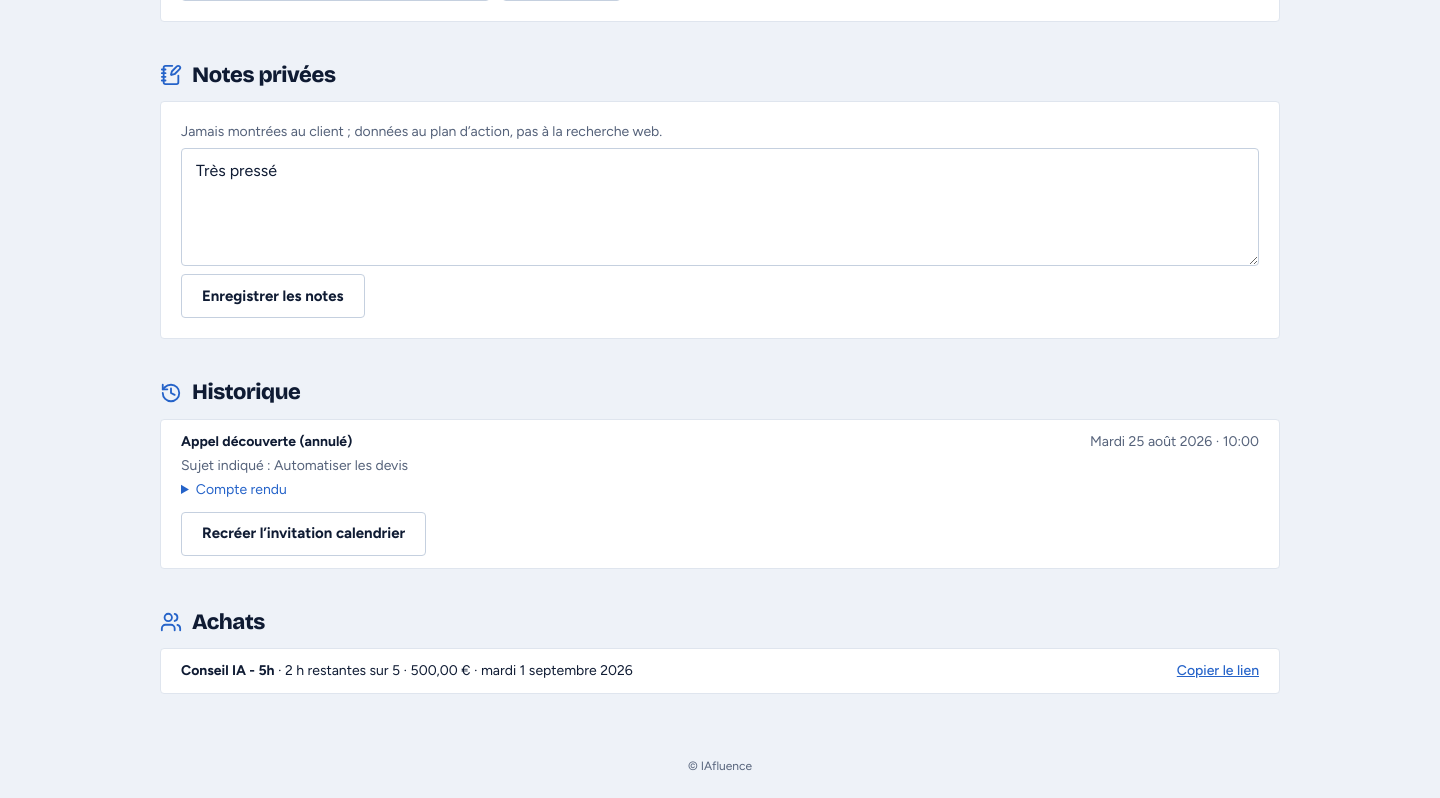
Test: LearnerPage › recreates a cancelled future discovery invitation after confirmation
(page scrolled)
Click the button "Recréer l’invitation calendrier": (304, 534) [181,512,426,556]
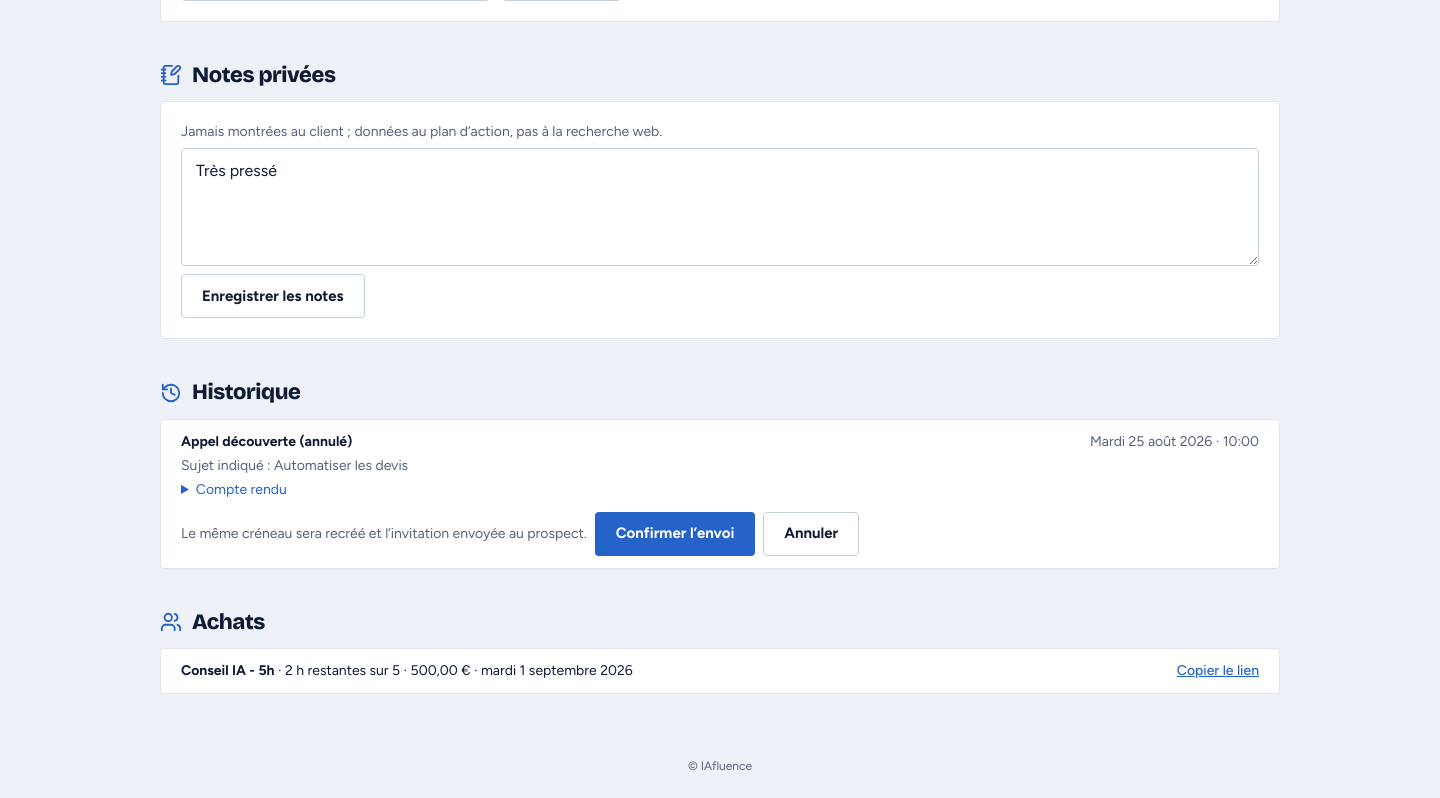
Check: the text "Le même créneau sera recréé et l’invitation envoyée au prospect." is shown, box [181,524,587,544]
Click the button "Confirmer l’envoi": (675, 534) [595,512,755,556]
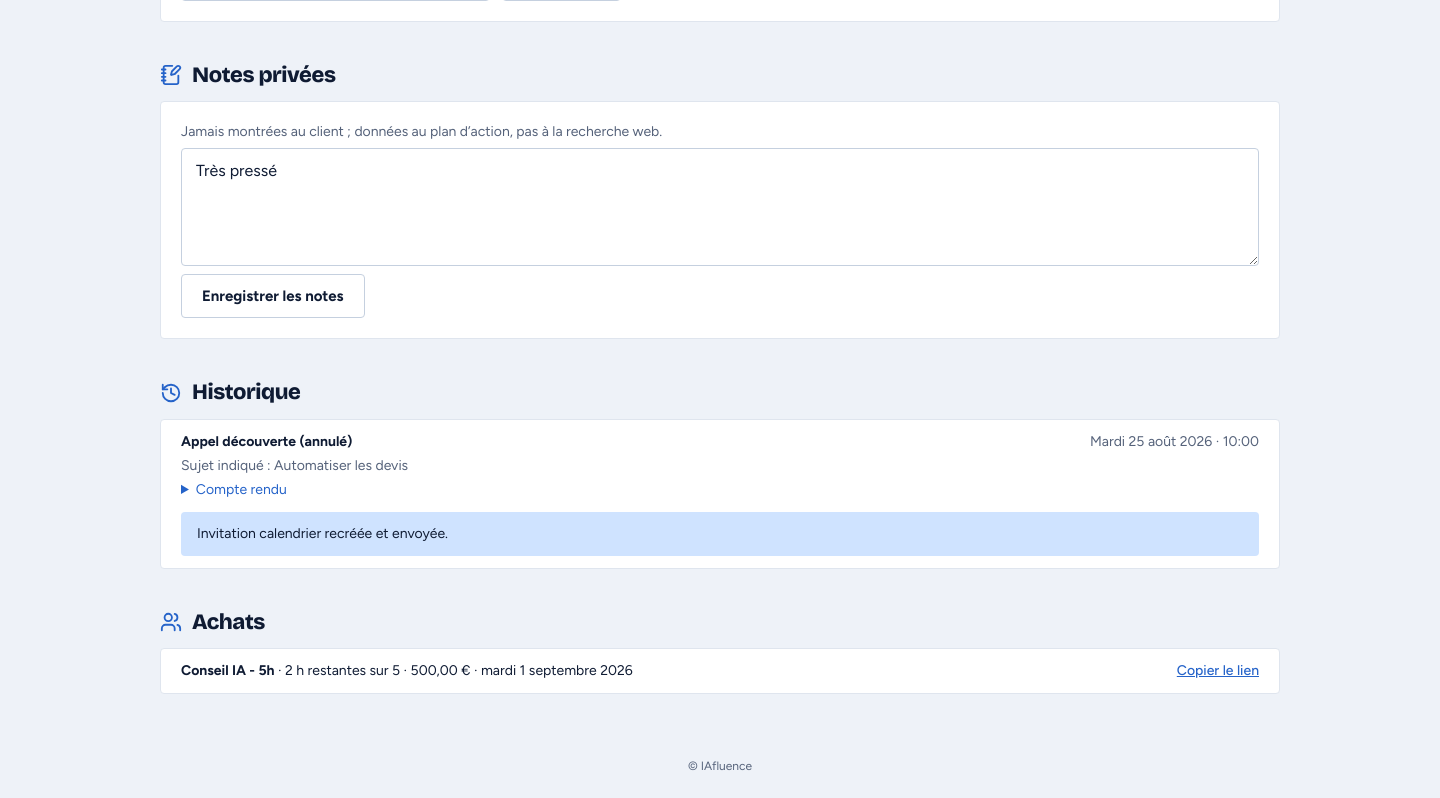
Check: the message reads "Invitation calendrier recréée et envoyée.", box [197,524,448,542]
